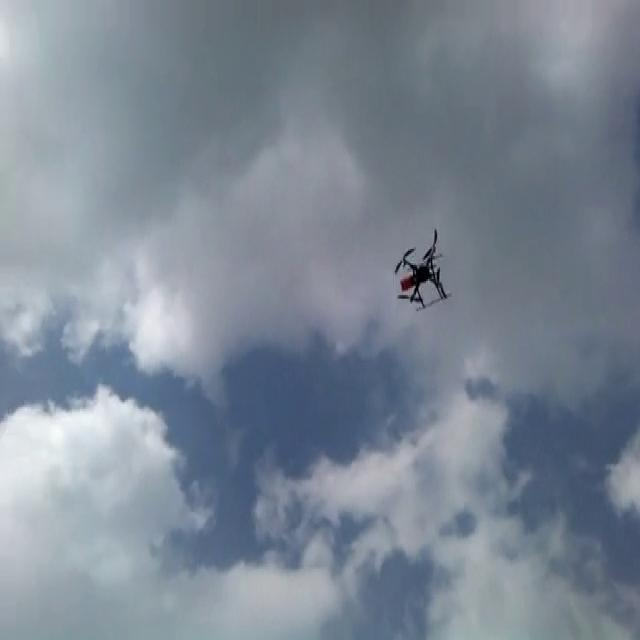drone: (392, 222, 450, 316)
